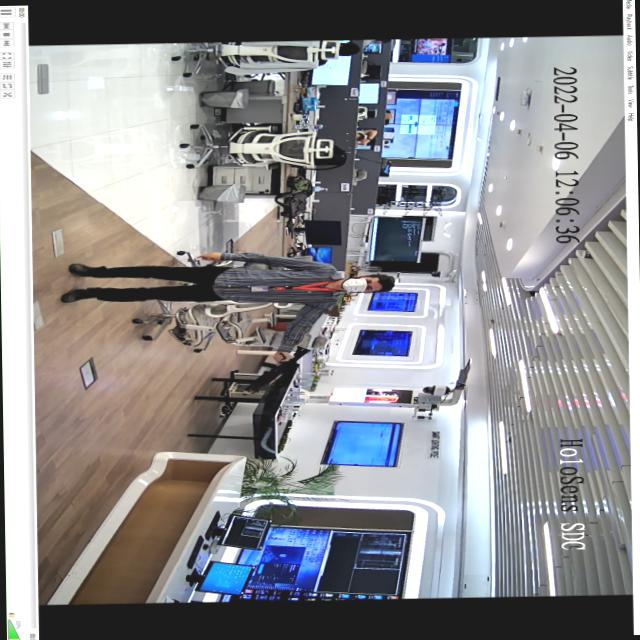long weapon: (227, 340, 315, 402)
